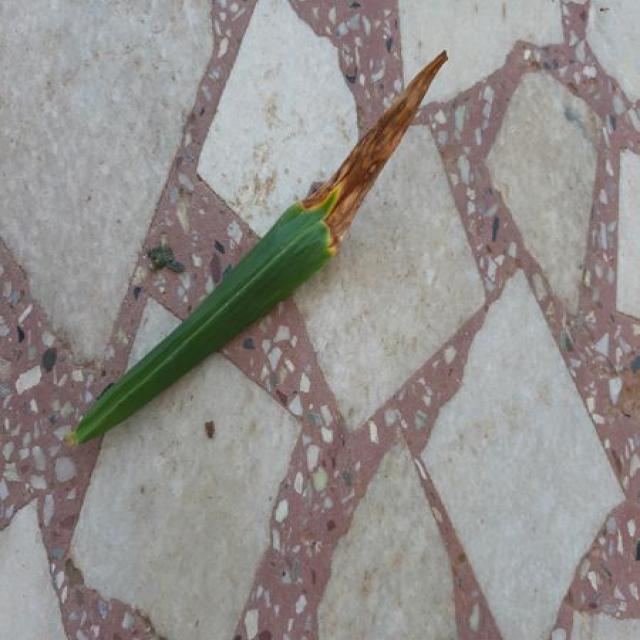bacterial wilt: (298, 51, 447, 252)
ginger: (68, 51, 448, 443)
